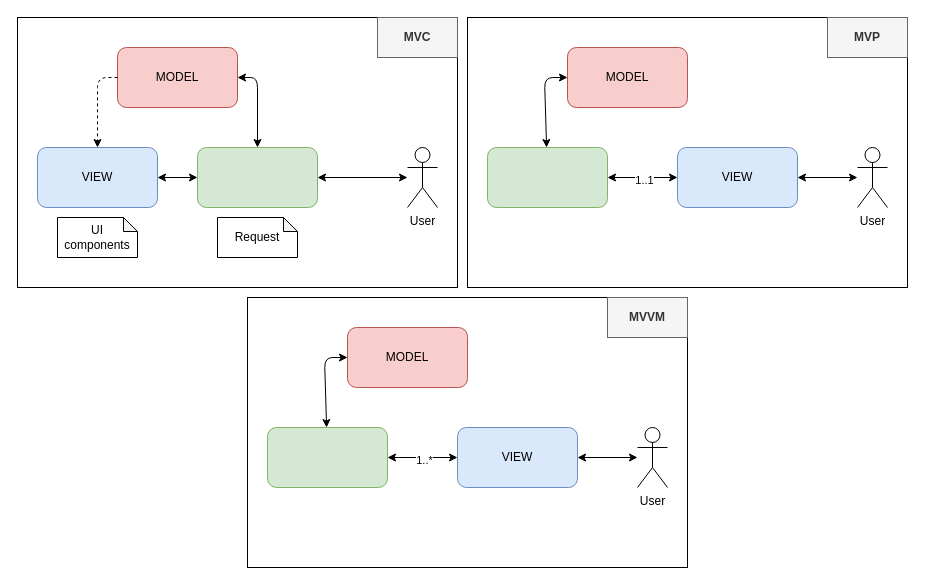
This 925x585 diagram has some shape labels left out. Here are the shapes that lost their labels. From the top down, the centre of each, then its label:
At point (257, 177): "CONTROLLER".
At point (547, 177): "PRESENTER".
At point (327, 457): "VIEWMODEL".
